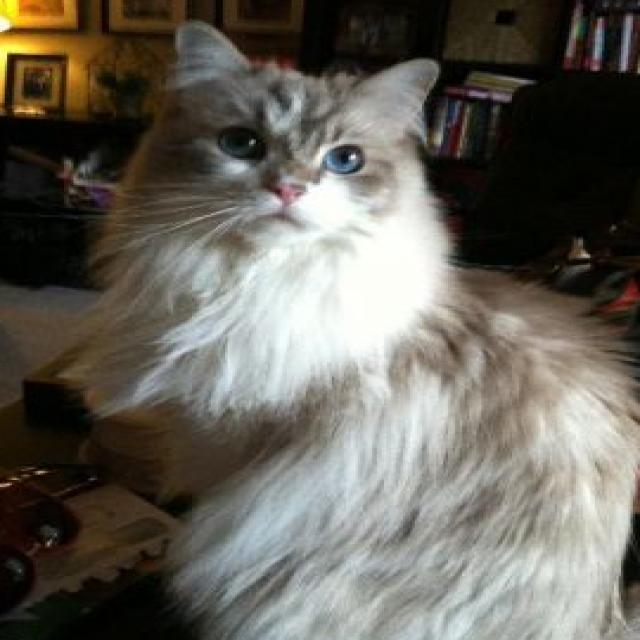Ragdoll: (78, 14, 640, 640)
